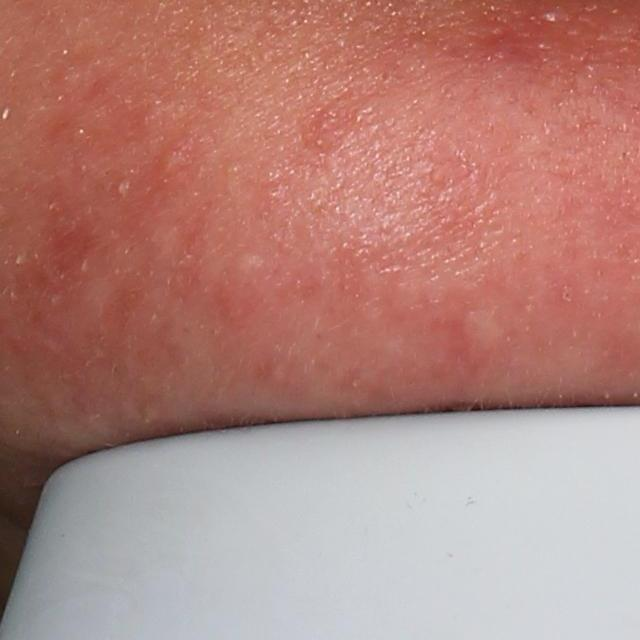hypertrophic_scar: (55, 273, 118, 343), (459, 308, 510, 370)
